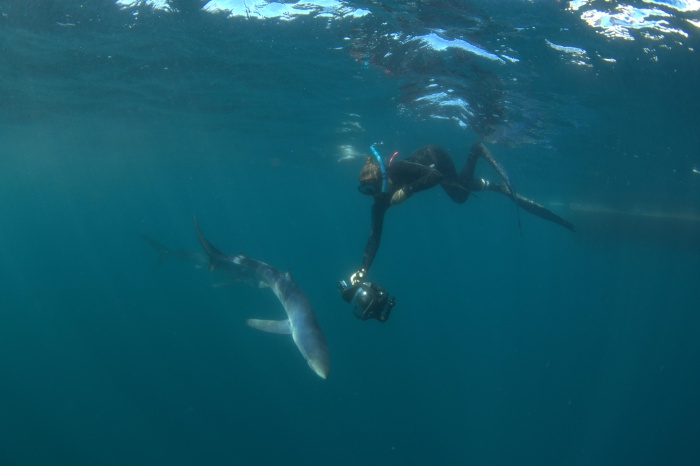Azul: (138, 206, 327, 388)
